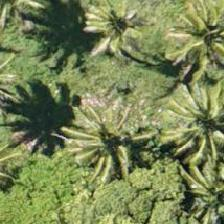coconut_tree: (74, 88, 164, 178), (74, 0, 164, 72), (164, 80, 223, 170), (164, 0, 223, 79), (164, 146, 223, 223)
